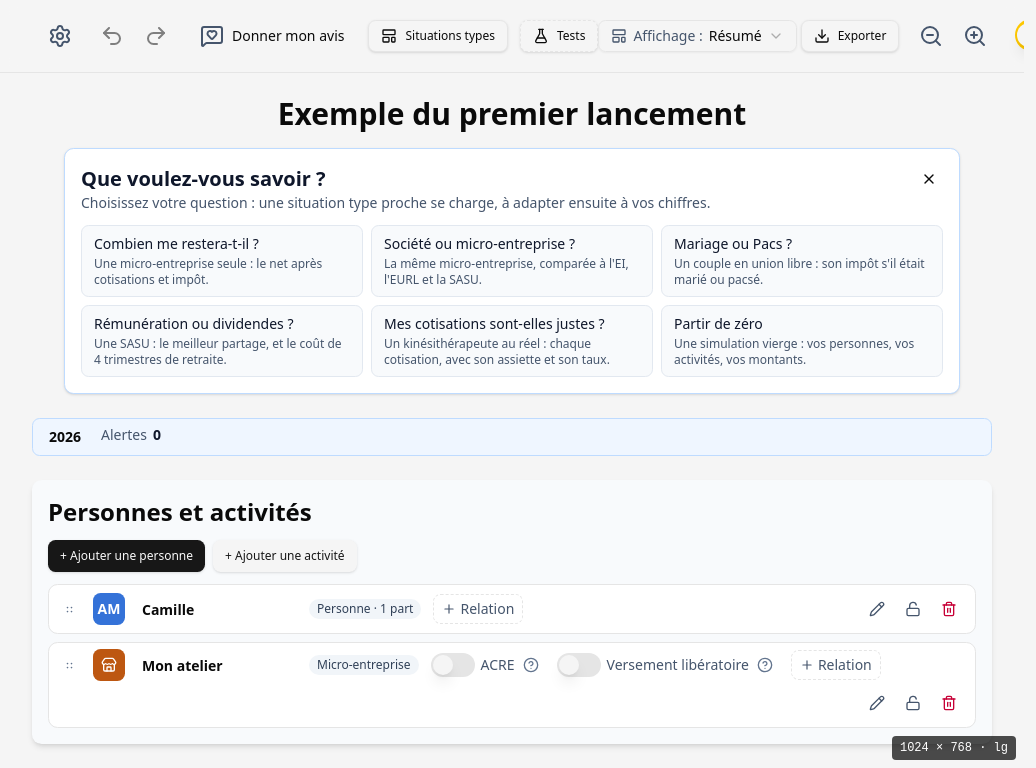
App : encart « Que voulez-vous savoir ? » › sur l'exemple de la démo, une question le remplace directement par sa situation type, annulable en une étape, et l'encart s'efface
Expected: the heading "Exemple du premier lancement" is shown, [278,93,746,134]
Click the button "Mariage ou Pacs ?" at (802, 261), box [661,225,943,297]
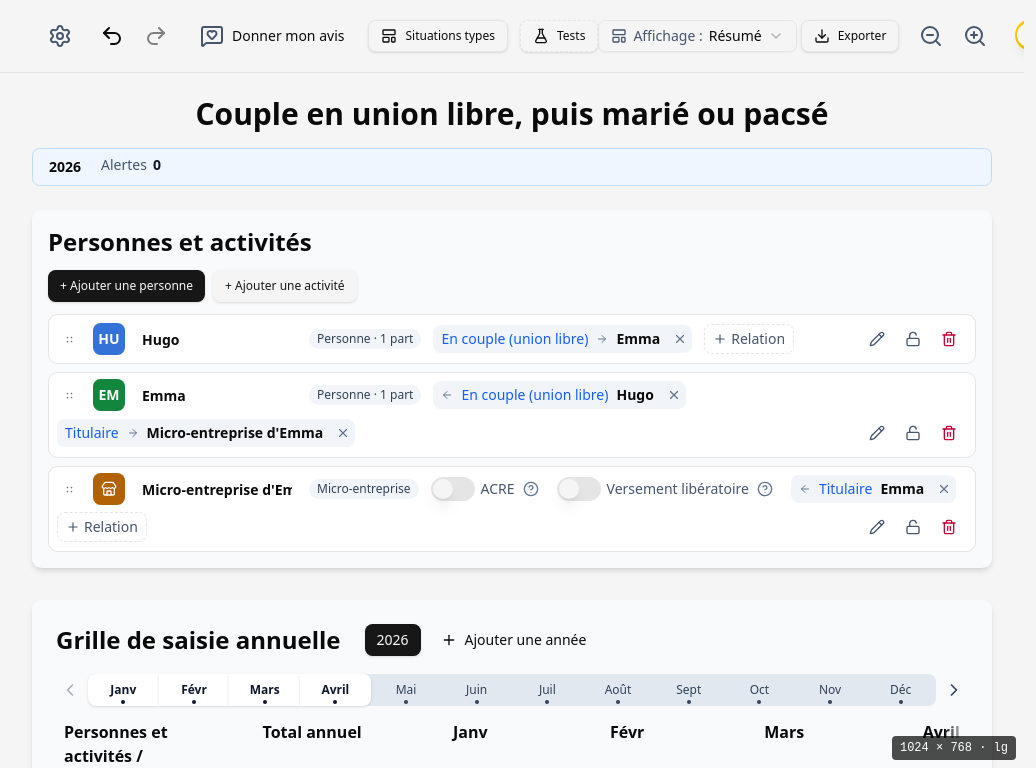
Result: the heading "Couple en union libre, puis marié ou pacsé" is shown at [196,93,828,134]
Result: the heading "Que voulez-vous savoir ?" is gone
Click the button named "Annuler" at (112, 36), box [92,16,132,56]
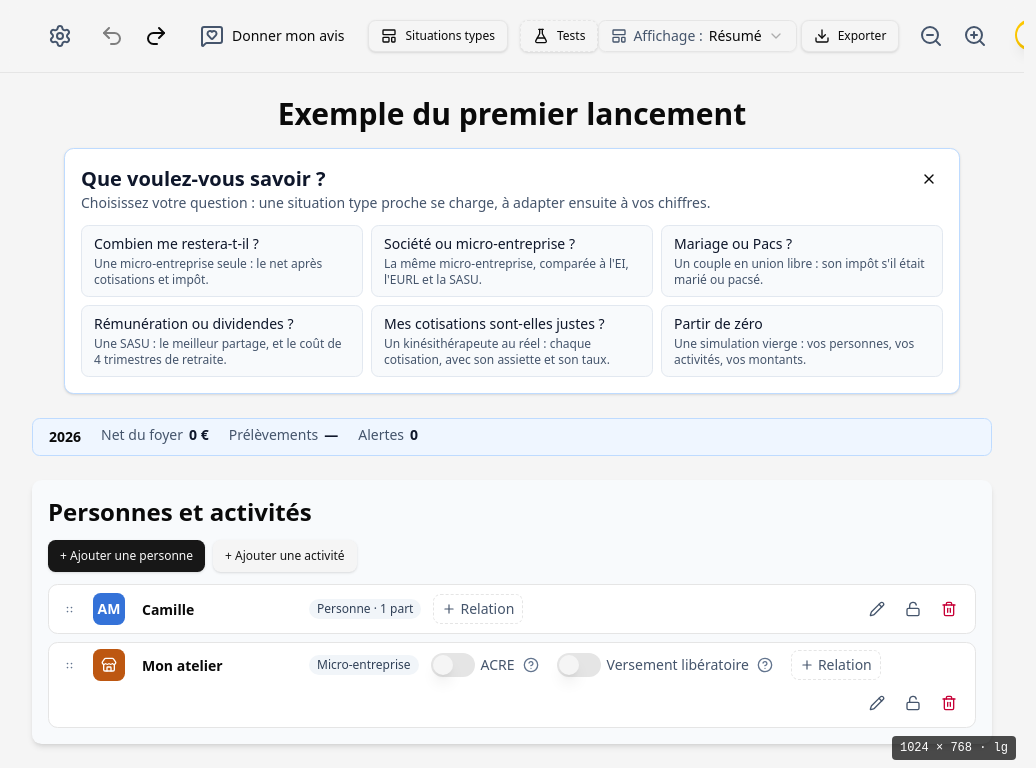
Result: the heading "Exemple du premier lancement" is shown at [278,93,746,134]
Result: the element "Que voulez-vous savoir ?" is shown at [64,148,960,394]
